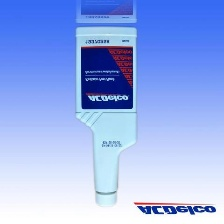cleaning_solution: (71, 21, 141, 209)
